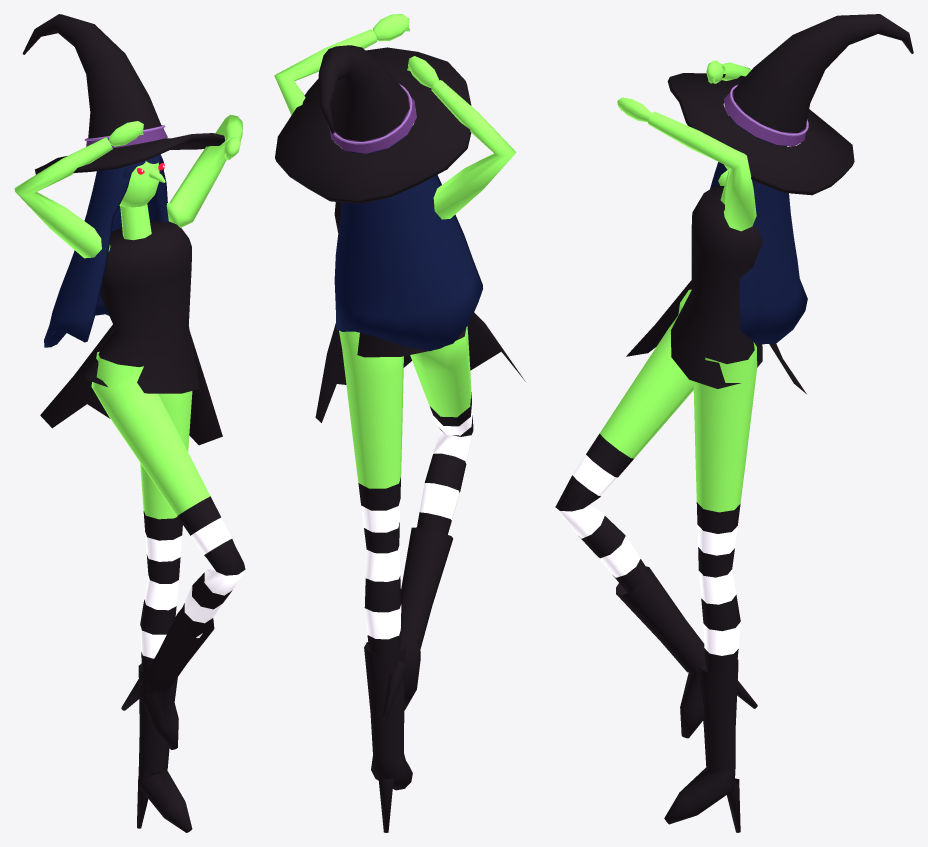
The model's file is witch_solo_a.glb.
The picture shows the model from 3 angles, left to right: view 1: azimuth 30°, elevation 25°; view 2: azimuth 150°, elevation 25°; view 3: azimuth 270°, elevation 25°; orthographic projection. The views are drawn at different scales.
Visible parts, largest first — view 1: HWG_Witch_solo_a; view 2: HWG_Witch_solo_a; view 3: HWG_Witch_solo_a.
Part boxes in pixels (x1=…): HWG_Witch_solo_a: x1=14, y1=14, x2=245, y2=832; HWG_Witch_solo_a: x1=274, y1=14, x2=525, y2=832; HWG_Witch_solo_a: x1=555, y1=14, x2=913, y2=832.
Bounding box in the file's own units: 0.4121 × 1.34 × 0.5358.
